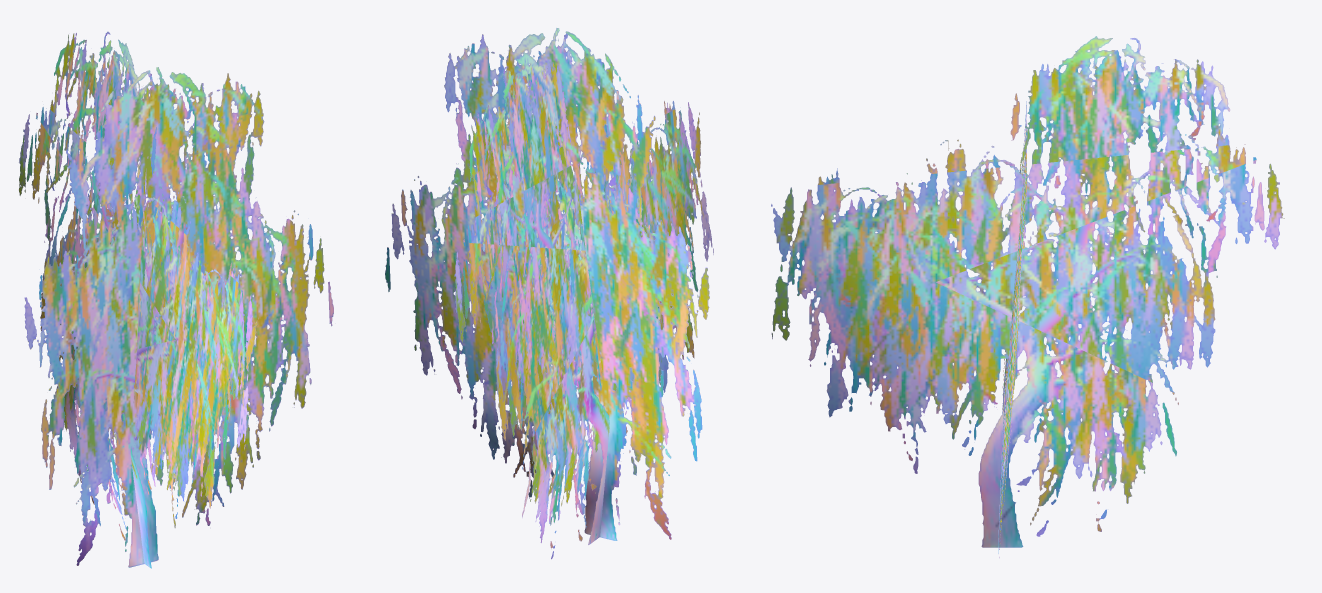
File: tree_willow_02_CROSS.FBX
3 renders of one model, left to right at view 1: azimuth 30°, elevation 25°; view 2: azimuth 150°, elevation 25°; view 3: azimuth 270°, elevation 25°, orthographic. The views are drawn at different scales.
Visible parts, largest first — view 1: Willow_02_CROSS; view 2: Willow_02_CROSS; view 3: Willow_02_CROSS.
Boxes of the visible parts, x1,y1,x2,y2 form: Willow_02_CROSS: (19, 31, 333, 568); Willow_02_CROSS: (385, 28, 713, 559); Willow_02_CROSS: (771, 36, 1284, 557).
Size of the model in its own units: 542 by 778 by 745.
